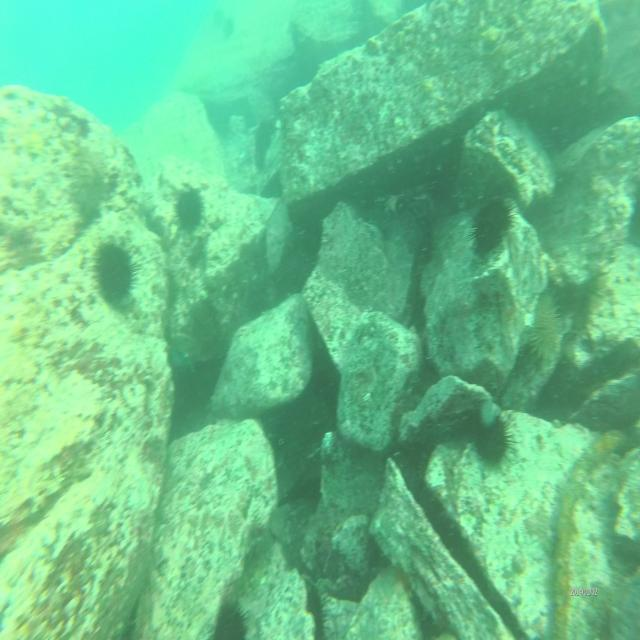echinus: (89, 239, 142, 309), (467, 192, 519, 258), (474, 406, 517, 472), (530, 286, 563, 366), (172, 182, 207, 233)
